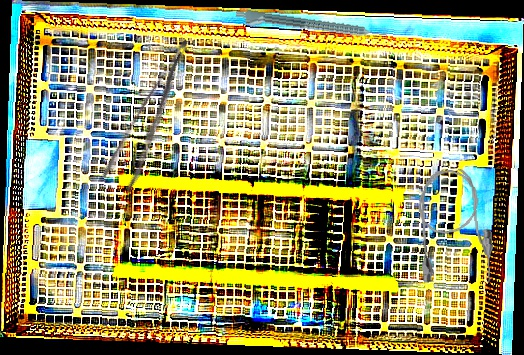Cannula: (414, 167, 496, 289)
Dressing Forceps: (99, 37, 212, 193)
Handpiece: (234, 8, 388, 47)
